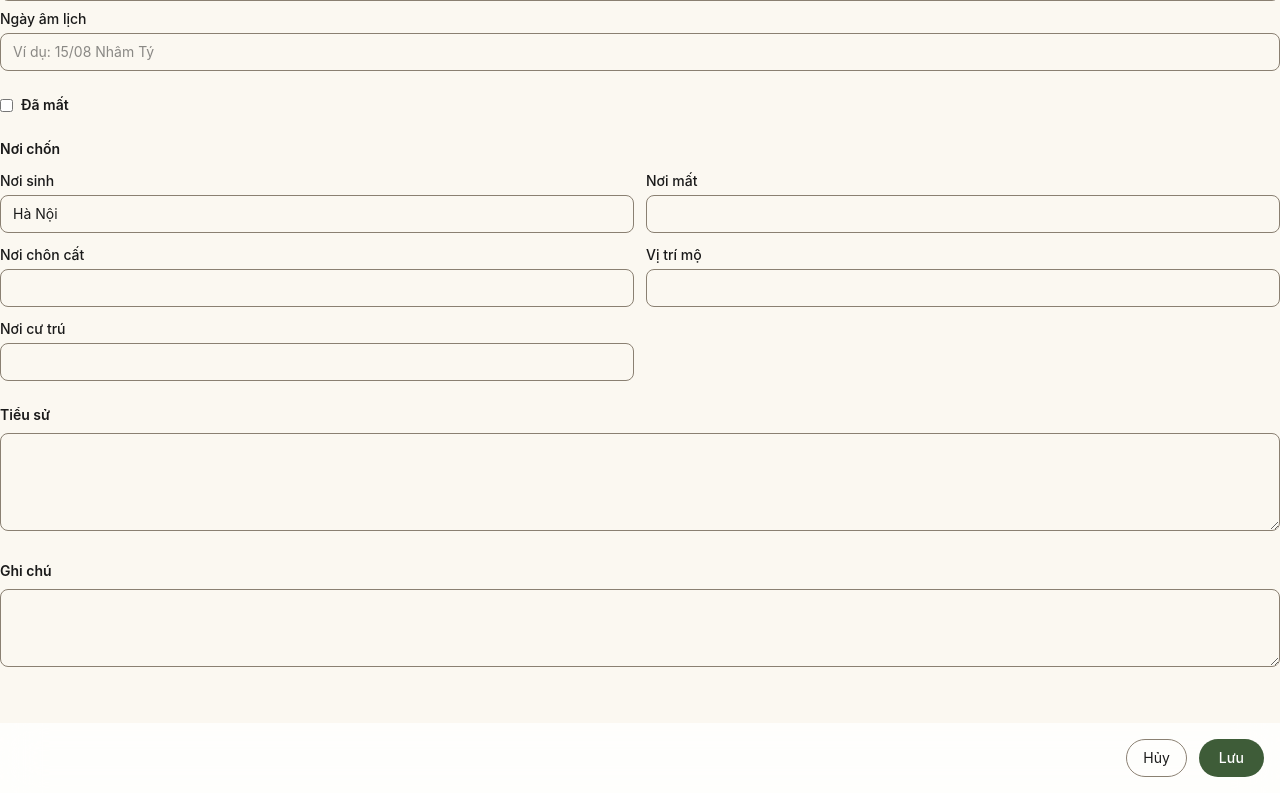
PersonForm — the unsaved-changes guard after a successful save › edit: leaving no longer prompts once the change is saved
(page scrolled)
Type "ghi chú mới" into the text box labelled "Ghi chú". click: (640, 628)
box: [0,589,1279,667]
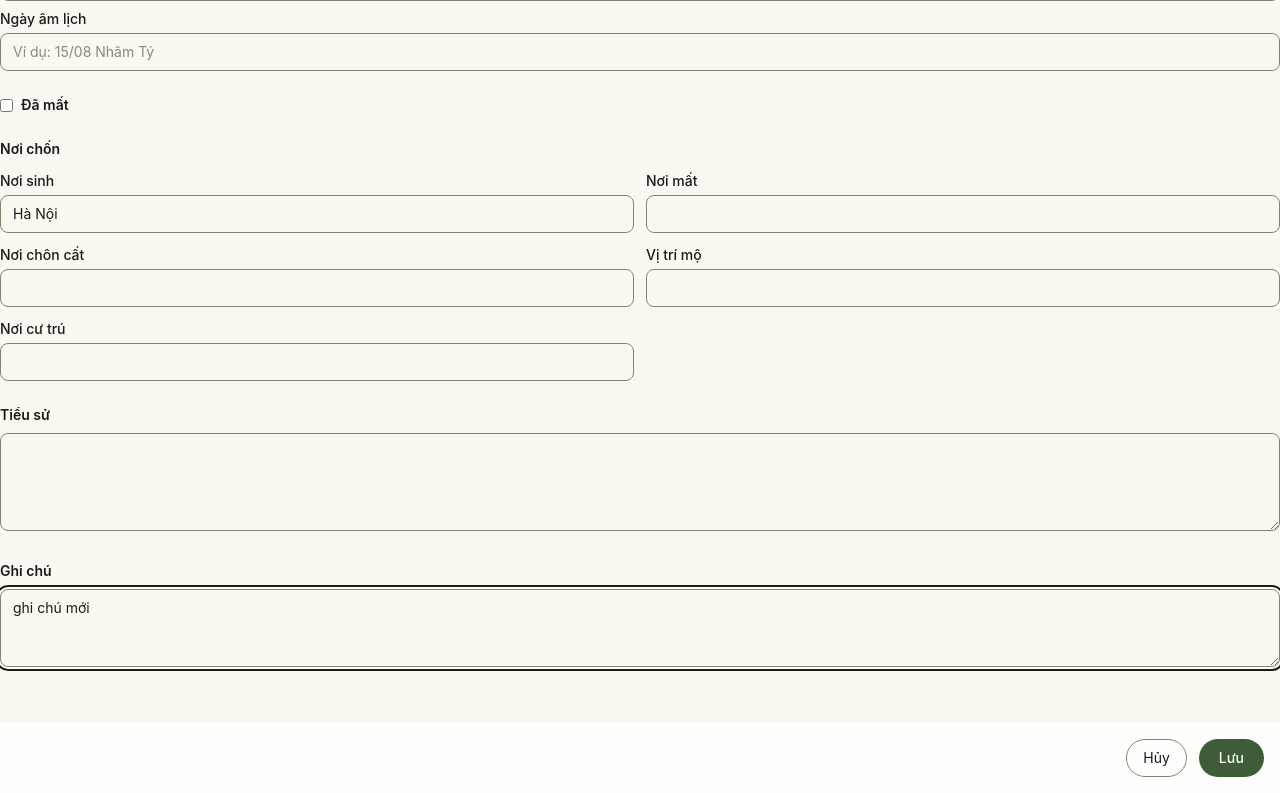
Click the button "Lưu". click: (1231, 758)
box: [1199,739,1264,777]
(page scrolled)
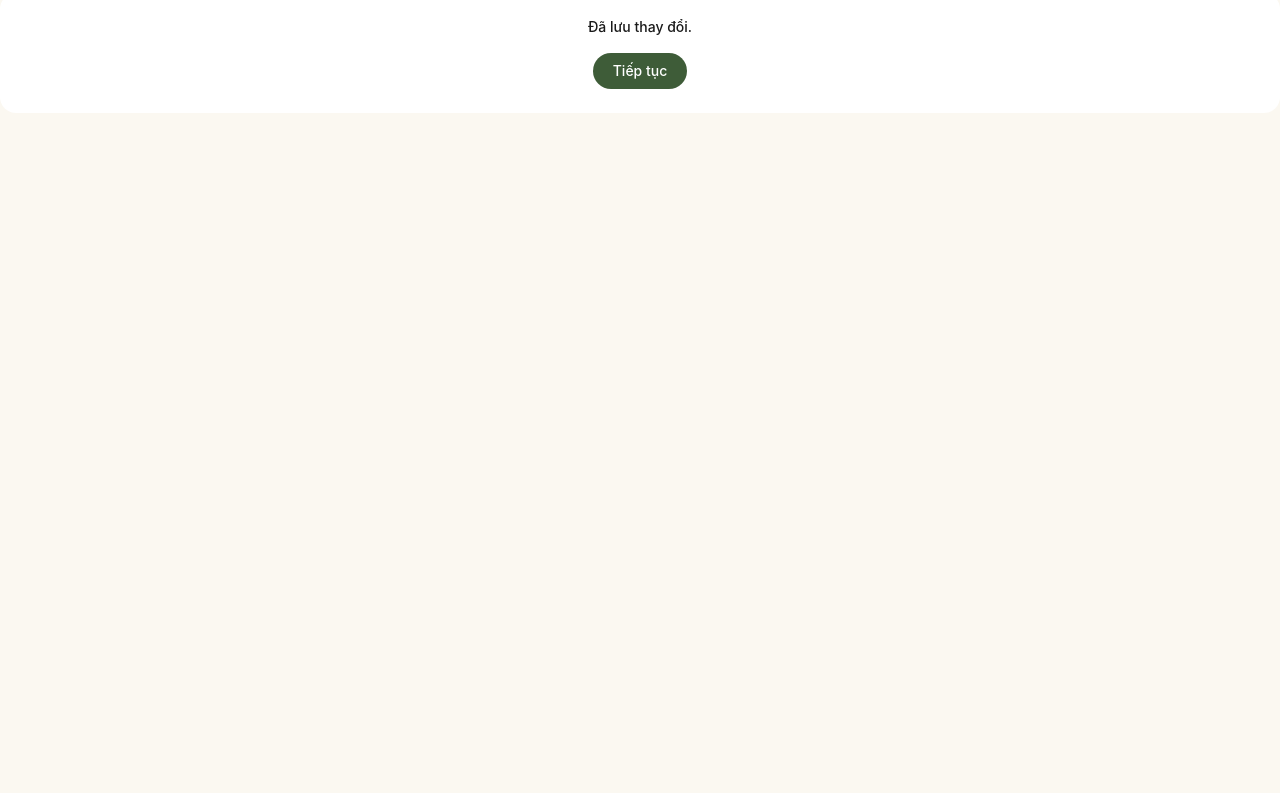
Check: the text "Đã lưu thay đổi." is shown, box [588,18,692,35]
